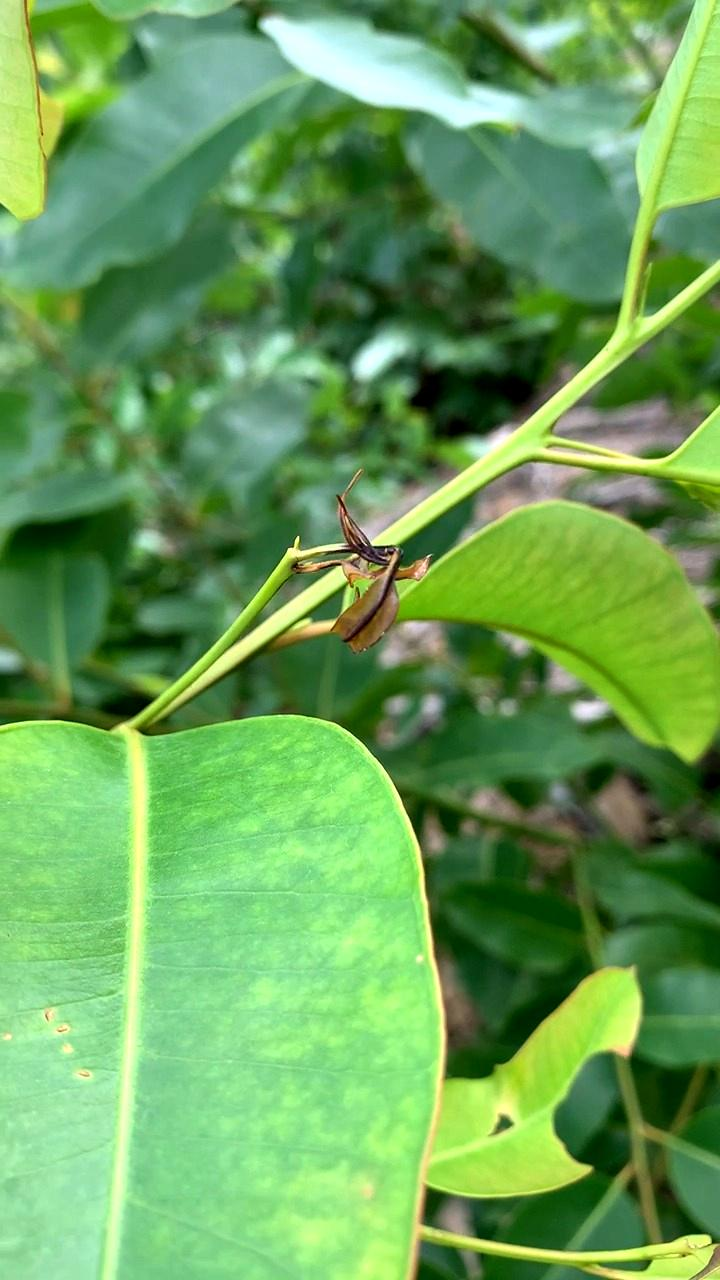Helopeltis-Withered Sprout: (277, 476, 440, 658)
